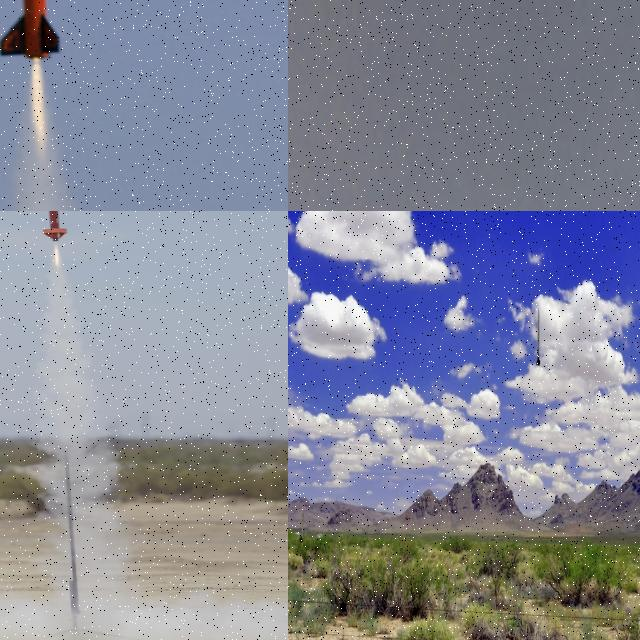Rocket: (0, 0, 61, 60), (41, 211, 69, 241), (536, 307, 541, 366)
